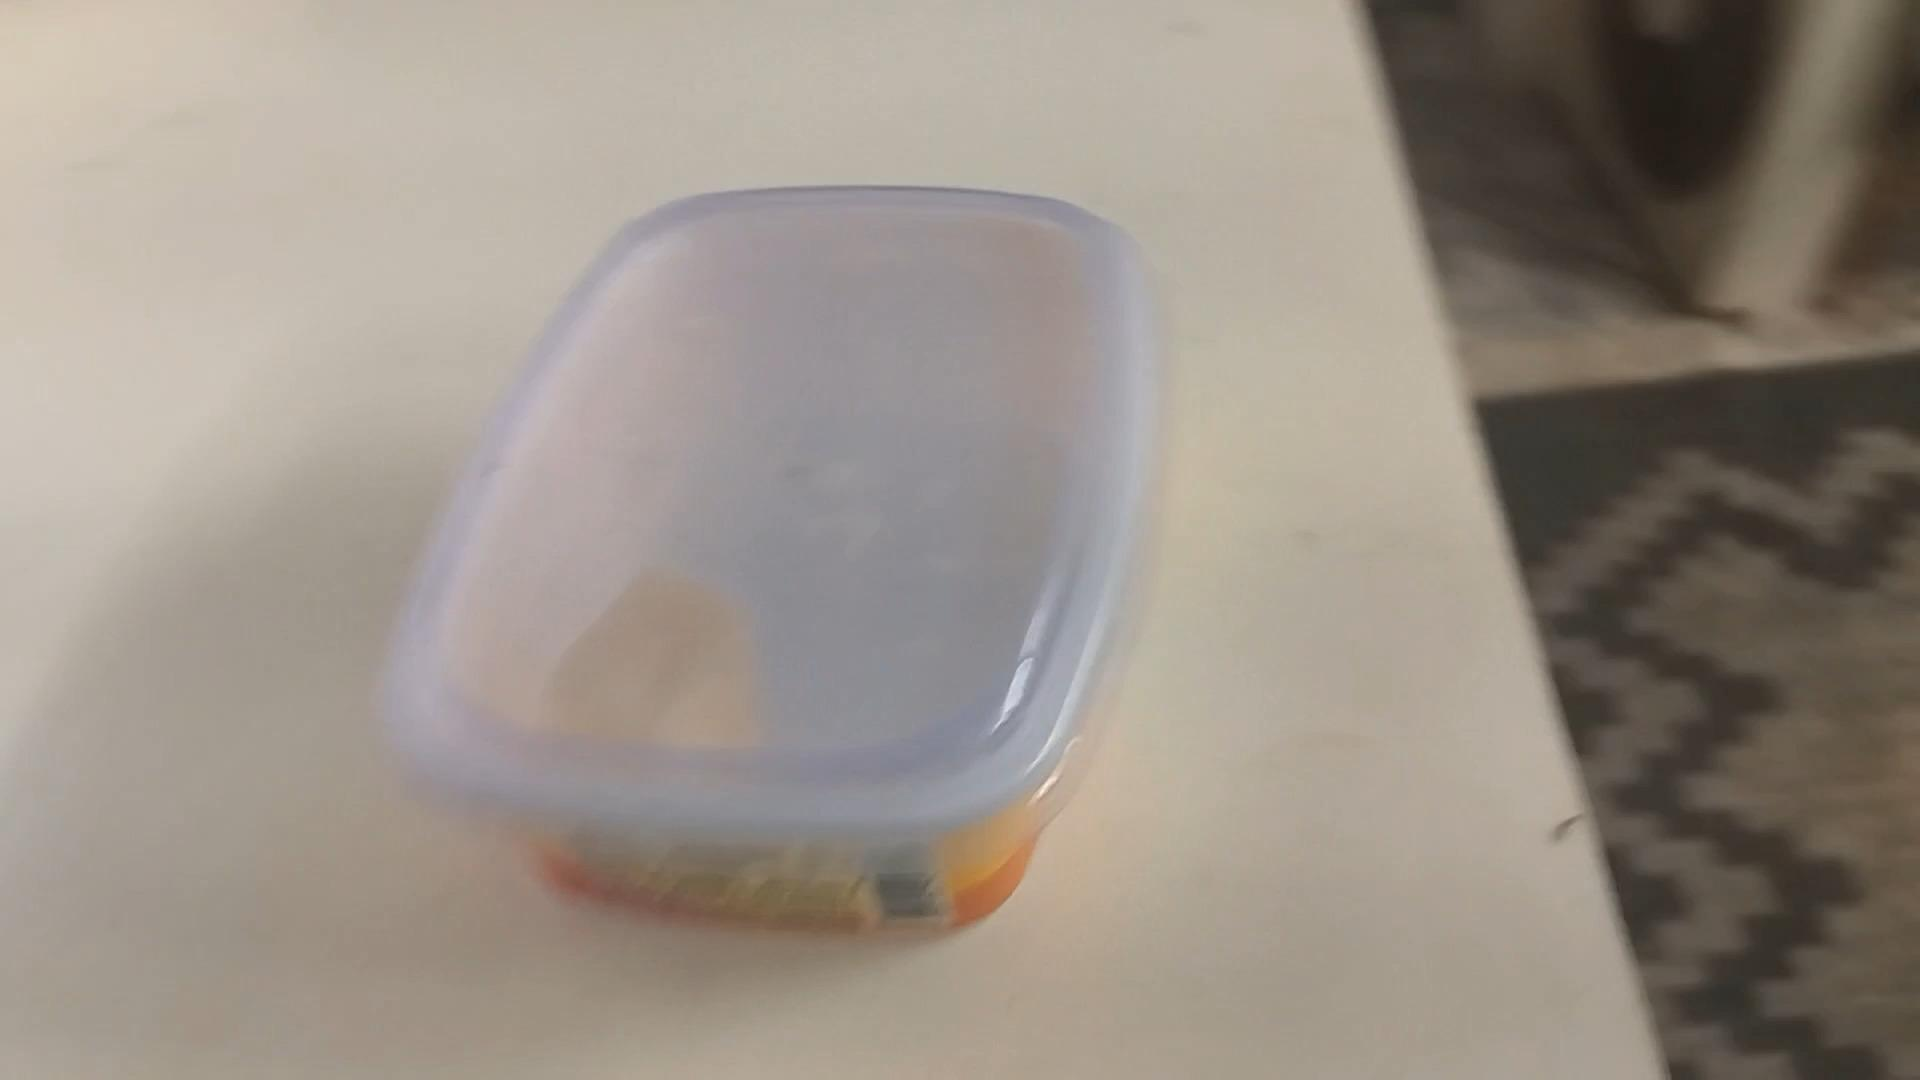butter: (376, 181, 1151, 942)
